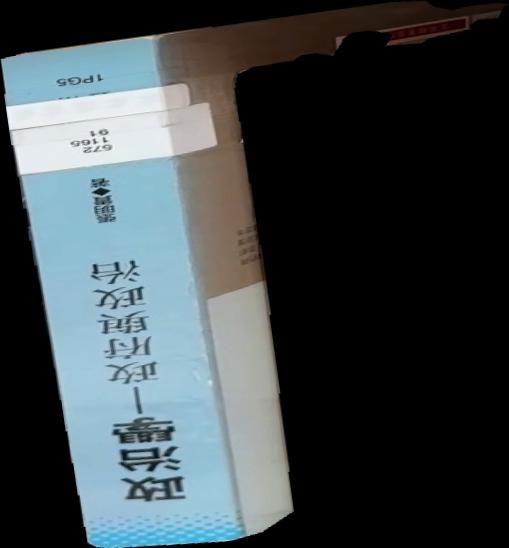reverse: (1, 1, 509, 548)
